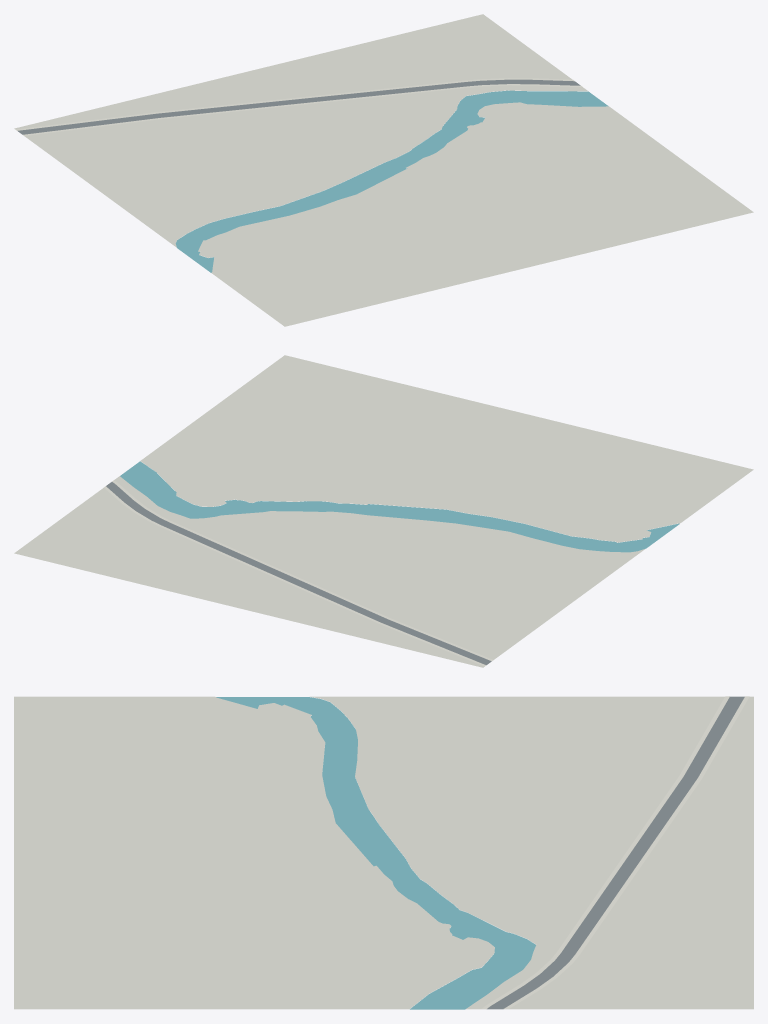
3 renders of one model, top to bottom at view 1: azimuth 30°, elevation 25°; view 2: azimuth 150°, elevation 25°; view 3: azimuth 270°, elevation 25°, orthographic. The views are drawn at different scales.
Parts seen in each view (by area): view 1: city; view 2: city; view 3: city.
Part boxes in pixels (x1,y1,x2,y2): city: [14, 14, 753, 326]; city: [14, 355, 753, 667]; city: [14, 696, 753, 1009].
Size of the model in its own units: 500 by 0.4 by 500.
